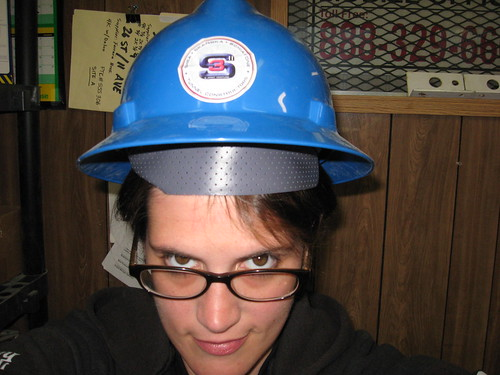person hardhat: (48, 3, 431, 375)
